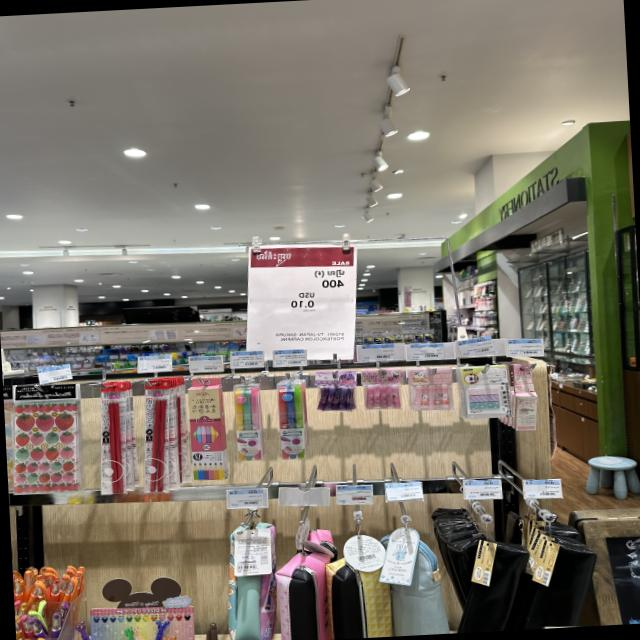194: (288, 297, 323, 311)
748: (314, 276, 355, 292)
Yolov11kh: (249, 251, 297, 266), (327, 263, 358, 276)
